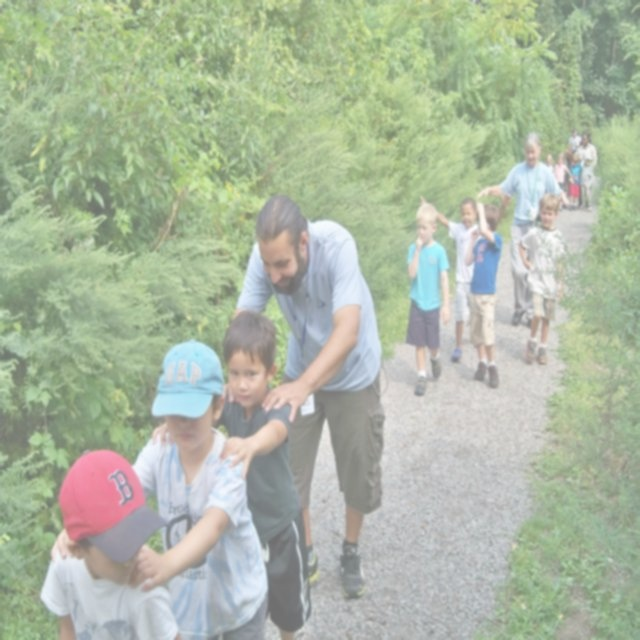pessoa: (221, 192, 387, 599), (51, 336, 269, 640), (139, 308, 317, 639), (39, 448, 184, 639), (474, 130, 572, 332), (417, 191, 513, 363), (404, 201, 452, 398), (516, 190, 569, 367), (463, 201, 510, 390), (574, 131, 597, 211), (553, 152, 574, 212), (579, 153, 595, 212), (568, 152, 582, 211), (562, 153, 574, 209), (563, 148, 571, 193), (568, 127, 582, 152), (543, 154, 555, 173)
